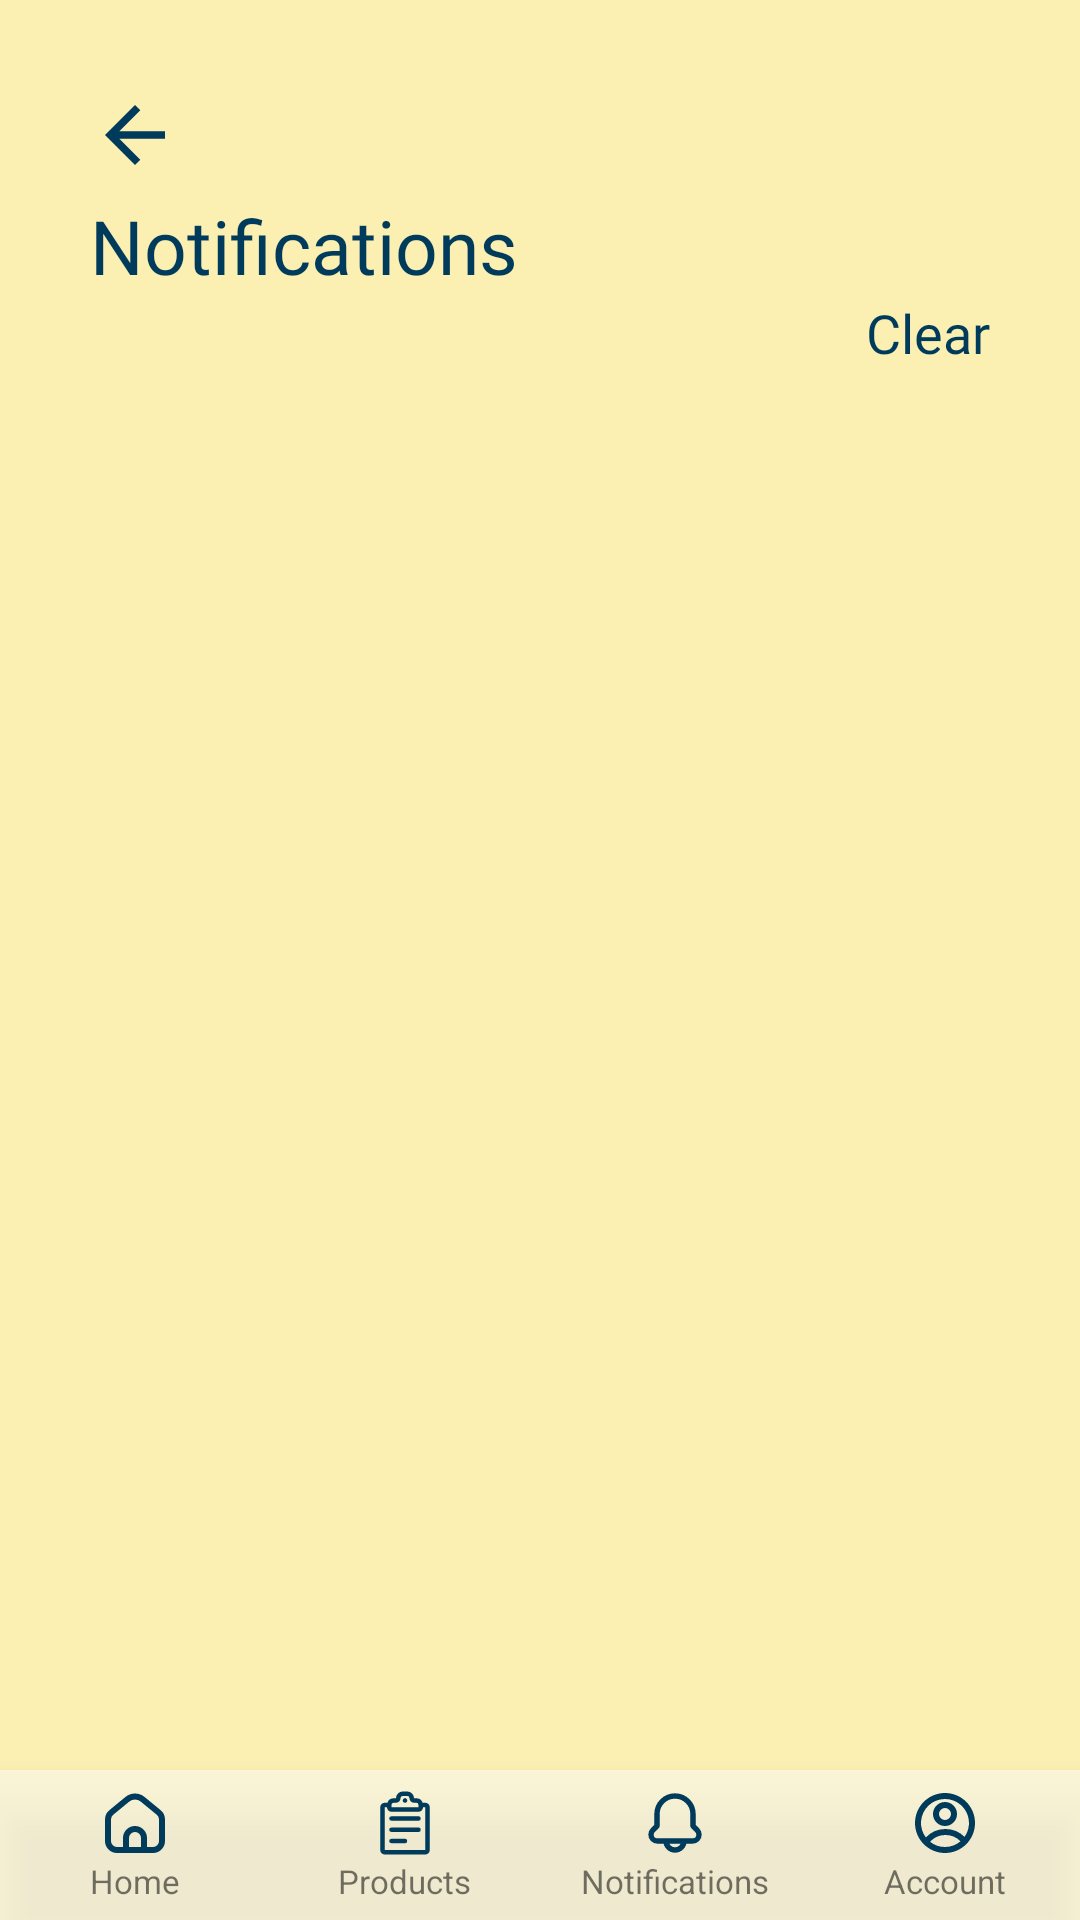

Named icons in this screenshot (1080 × 1920) and their bounding boxes, (x1, y1, x2, y2):
arrow back: (105, 105, 165, 165)
list: (380, 1791, 430, 1855)
